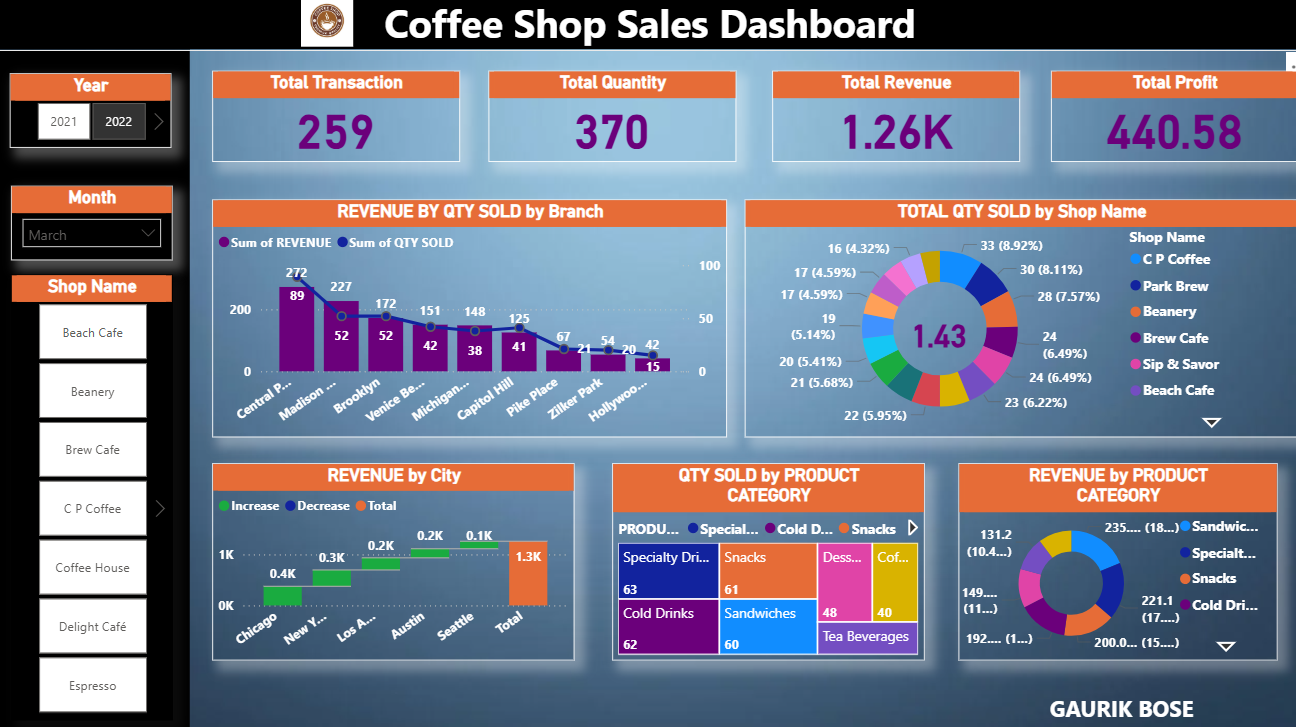

The dashboard page shown, as its layout file describes it:
{"tool":"powerbi","page":{"name":"Page 1","canvas":[1280,720],"ordinal":0},"visuals":[{"type":"shape","box":[0,0,1280,55.5],"z":0},{"type":"shape","box":[0,55.5,191.8,664.7],"z":1000},{"type":"textbox","box":[0,0,1280,56.7],"z":2000},{"type":"card","title":"Total Transaction","fields":{"Values":["CountNonNull(Sheet1.TRANSACTION ID)"]},"box":[213.5,76,238.9,88.1],"z":3000},{"type":"card","title":"Total Quantity","fields":{"Values":["Sum(Sheet1.QTY SOLD)"]},"box":[480.2,76,238.9,88.1],"z":4000},{"type":"card","title":"Total Revenue","fields":{"Values":["Sum(Sheet1.REVENUE)"]},"box":[754,76,238.9,88.1],"z":5000},{"type":"card","title":"Total Profit","fields":{"Values":["Sum(Sheet1.PROFIT MARGIN)"]},"box":[1023.1,76,238.9,88.1],"z":6000},{"type":"slicer","title":"Year","fields":{"Values":["Sheet1.DATE.Variation.Date Hierarchy.Year"]},"box":[18.1,78.4,155.6,72.4],"z":7000},{"type":"slicer","title":"Month","fields":{"Values":["Sheet1.DATE.Variation.Date Hierarchy.Month"]},"box":[19.3,187,155.6,72.4],"z":8000},{"type":"slicer","title":"Shop Name","fields":{"Values":["Sheet1.Shop Name"]},"box":[19.3,272.7,155.6,430.7],"z":9000},{"type":"lineClusteredColumnComboChart","title":" REVENUE BY QTY SOLD by Branch","fields":{"Category":["Sheet1.Branch"],"Y":["Sum(Sheet1.REVENUE)"],"Y2":["Sum(Sheet1.QTY SOLD)"]},"box":[213.5,200.3,497.1,229.2],"z":10000},{"type":"donutChart","title":"TOTAL QTY SOLD by Shop Name","fields":{"Y":["Sum(Sheet1.QTY SOLD)"],"Category":["Sheet1.Shop Name"]},"box":[727.5,200.3,534.5,229.2],"z":11000},{"type":"card","title":"Total Quantity","fields":{"Values":["Avg(Sheet1.QTY SOLD)"]},"box":[836.1,231.6,158,197.9],"z":12000},{"type":"waterfallChart","title":"REVENUE by City","fields":{"Category":["Sheet1.City"],"Y":["Sum(Sheet1.REVENUE)"]},"box":[213.5,454.8,349.9,190.6],"z":13000},{"type":"treemap","title":"QTY SOLD by PRODUCT CATEGORY","fields":{"Values":["Sum(Sheet1.QTY SOLD)"],"Group":["Sheet1.PRODUCT CATEGORY"]},"box":[599.6,454.8,301.6,190.6],"z":14000},{"type":"donutChart","title":"REVENUE by PRODUCT CATEGORY","fields":{"Category":["Sheet1.PRODUCT CATEGORY"],"Y":["Sum(Sheet1.REVENUE)"]},"box":[933.8,454.8,307.6,190.6],"z":14001},{"type":"image","box":[299.2,0,50.7,55.5],"z":14002},{"type":"textbox","box":[941,672,300.4,39.8],"z":14003}]}

Visuals, with their boxes in screenshot pixels (x1, y1, x2, y2), scaled from the page's 1280x720 canvas onto the 1296x727 screenshot:
shape: 0, 0, 1295, 56
shape: 0, 56, 194, 726
textbox: 0, 0, 1295, 57
"Total Transaction" card: 216, 77, 458, 166
"Total Quantity" card: 486, 77, 728, 166
"Total Revenue" card: 763, 77, 1005, 166
"Total Profit" card: 1036, 77, 1278, 166
"Year" slicer: 18, 79, 176, 152
"Month" slicer: 20, 189, 177, 262
"Shop Name" slicer: 20, 275, 177, 710
" REVENUE BY QTY SOLD by Branch" lineClusteredColumnComboChart: 216, 202, 719, 434
"TOTAL QTY SOLD by Shop Name" donutChart: 737, 202, 1278, 434
"Total Quantity" card: 847, 234, 1007, 434
"REVENUE by City" waterfallChart: 216, 459, 570, 652
"QTY SOLD by PRODUCT CATEGORY" treemap: 607, 459, 912, 652
"REVENUE by PRODUCT CATEGORY" donutChart: 945, 459, 1257, 652
image: 303, 0, 354, 56
textbox: 953, 679, 1257, 719
